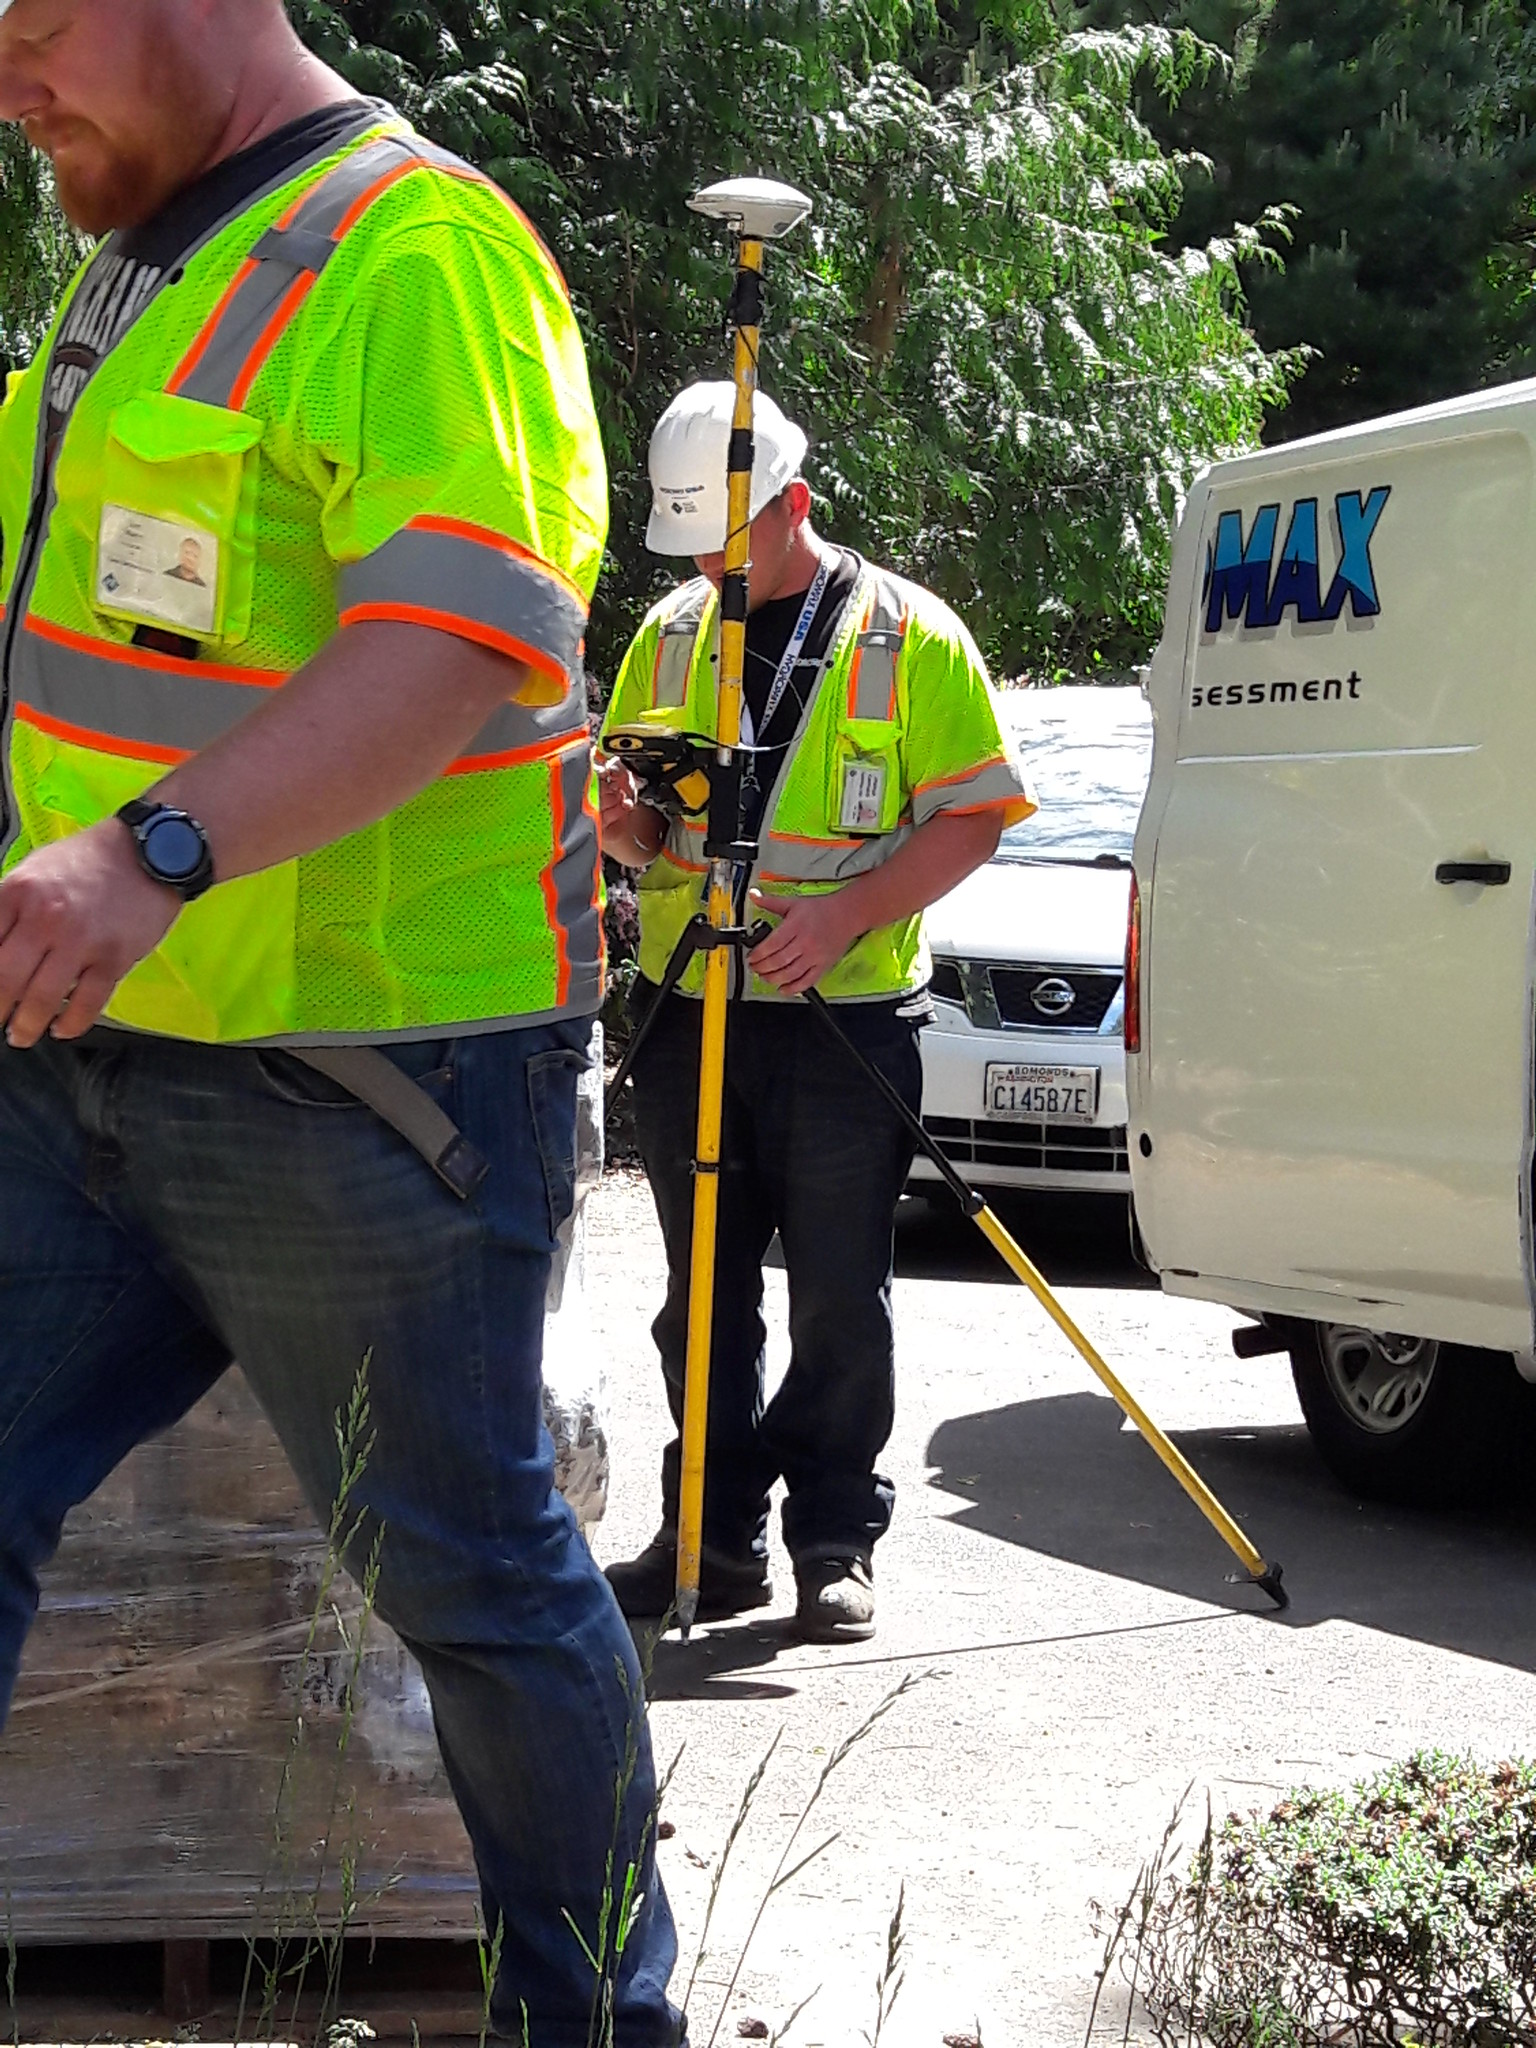Helmet: (644, 364, 815, 576)
Reflective vest: (2, 118, 620, 1050), (597, 568, 1037, 1019)
